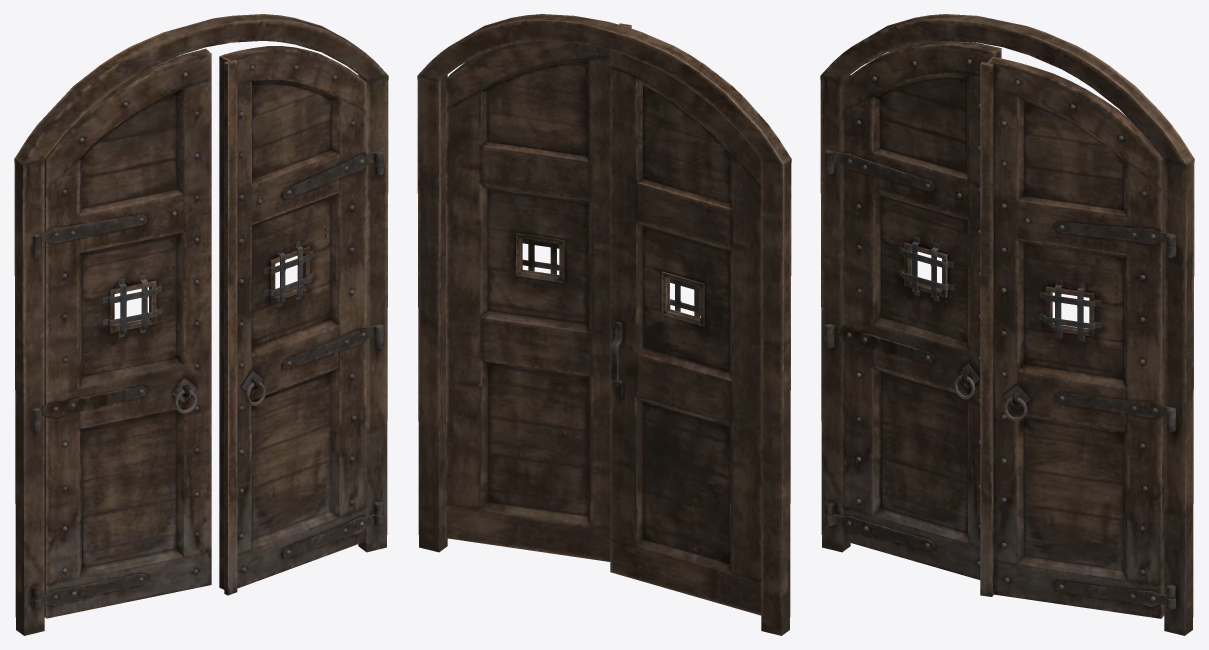
The model's file is castle_door.glb.
3 renders of one model, left to right at view 1: azimuth 30°, elevation 25°; view 2: azimuth 150°, elevation 25°; view 3: azimuth 330°, elevation 25°, orthographic.
Parts seen in each view (by area): view 1: large_castle_door_left, large_castle_door_right, large_castle_door_frame; view 2: large_castle_door_right, large_castle_door_left, large_castle_door_frame; view 3: large_castle_door_right, large_castle_door_left, large_castle_door_frame.
Part boxes in pixels (<box>): large_castle_door_left: <box>32,48,211,618</box>; large_castle_door_right: <box>219,46,383,595</box>; large_castle_door_frame: <box>14,14,388,635</box>; large_castle_door_right: <box>446,23,631,561</box>; large_castle_door_left: <box>610,50,761,615</box>; large_castle_door_frame: <box>417,14,791,635</box>; large_castle_door_right: <box>980,57,1175,618</box>; large_castle_door_left: <box>824,41,1001,579</box>; large_castle_door_frame: <box>820,14,1194,635</box>.
Size of the model in its own units: 2.01 by 2.96 by 0.2963.
Materials: 1 (1 with a texture image).
